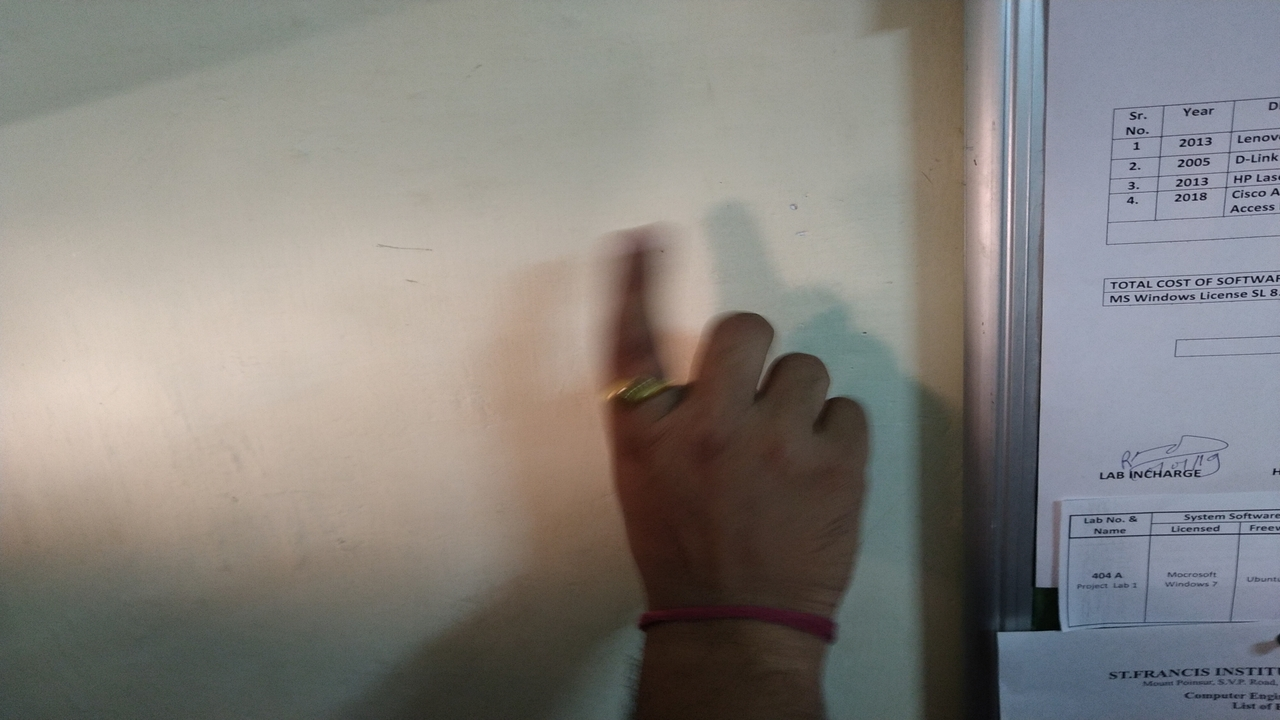fingertip: (599, 229, 667, 273)
